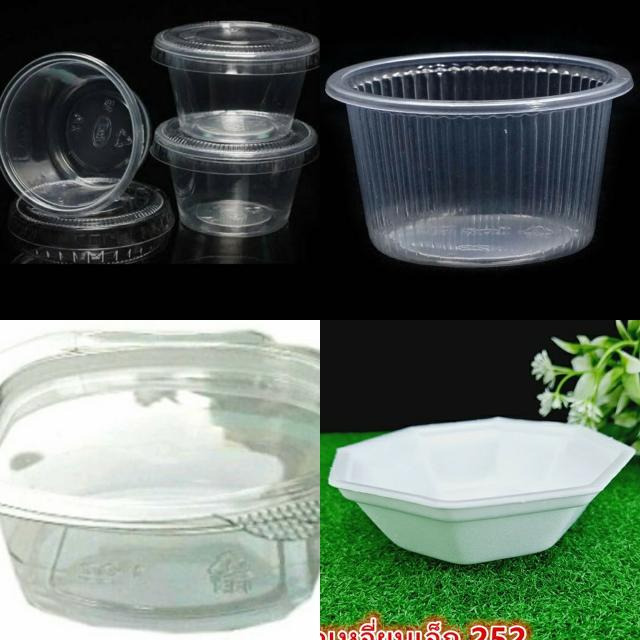Single-Use-Plastic: (0, 331, 319, 631), (326, 51, 634, 266), (329, 418, 635, 564), (0, 52, 150, 218), (151, 110, 319, 238), (151, 21, 319, 142)
